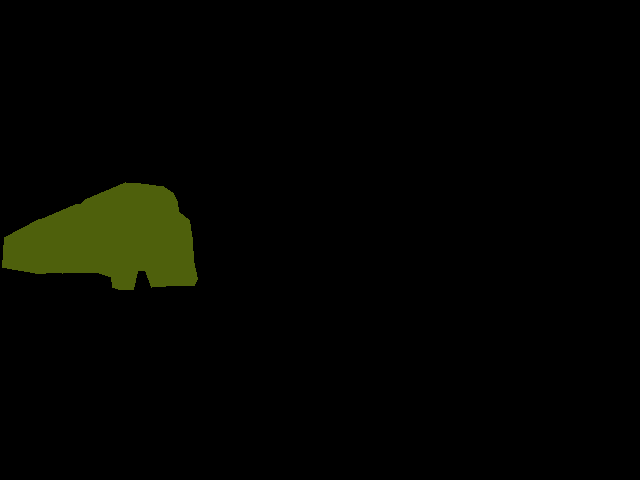Train: (2, 182, 198, 290)
